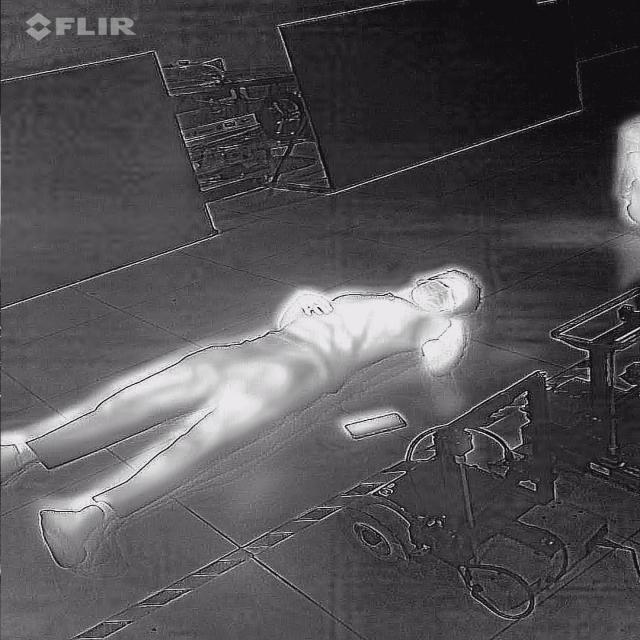Victim: (0, 266, 484, 568)
